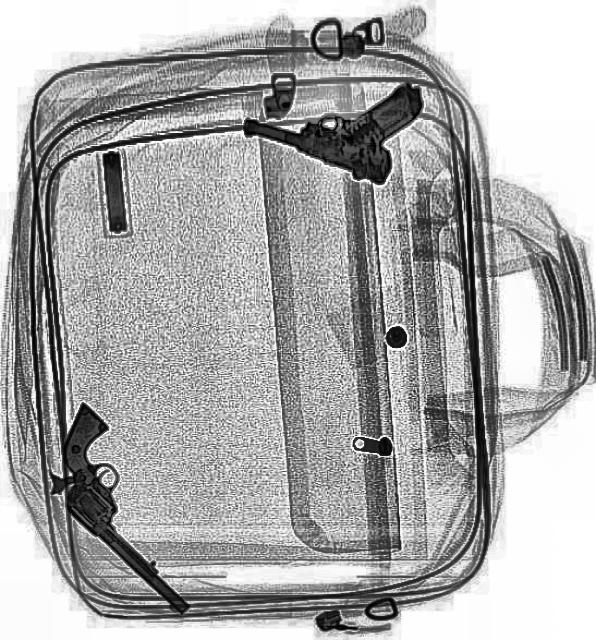Gun: (16, 398, 242, 616), (237, 35, 429, 188)
